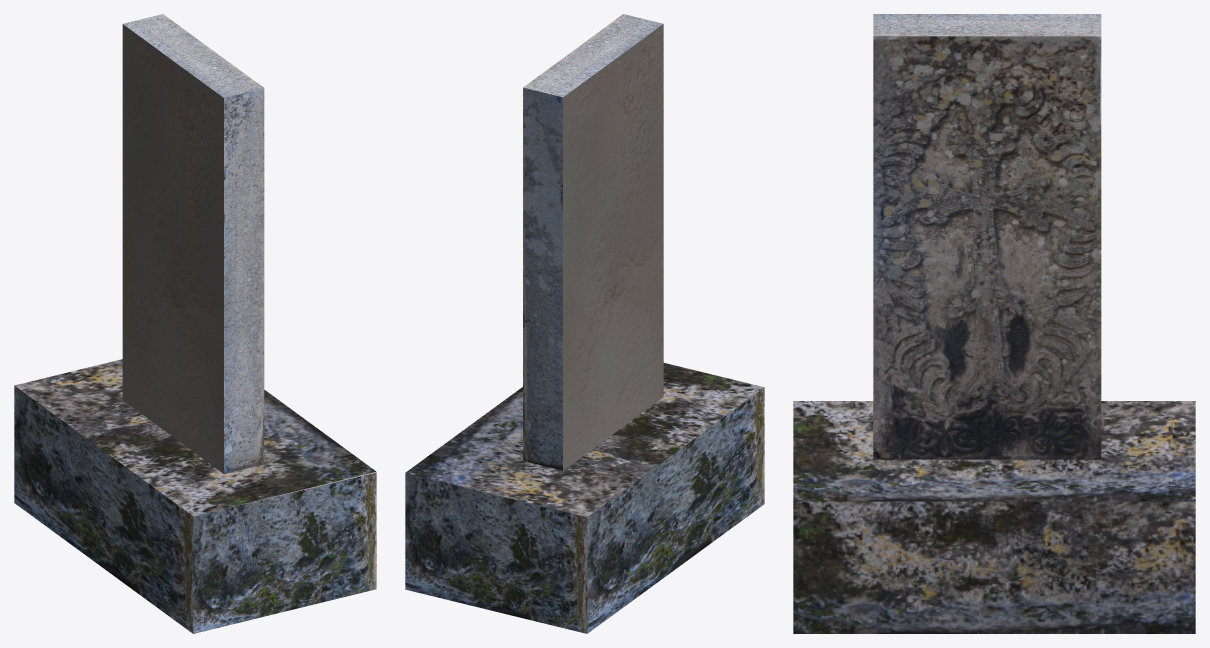
File: khachkar5maninfold.glb
3 renders of one model, left to right at view 1: azimuth 30°, elevation 25°; view 2: azimuth 150°, elevation 25°; view 3: azimuth 270°, elevation 25°, orthographic. The views are drawn at different scales.
Visible parts, largest first — view 1: ShapeIndexedFaceSet.001; view 2: ShapeIndexedFaceSet.001; view 3: ShapeIndexedFaceSet.001.
Boxes of the visible parts, left/top/right/bottom form: ShapeIndexedFaceSet.001: left=14, top=14, right=376, bottom=633; ShapeIndexedFaceSet.001: left=405, top=14, right=764, bottom=633; ShapeIndexedFaceSet.001: left=793, top=14, right=1195, bottom=633.
Bounding box in the file's own units: 0.7822 × 2.01 × 1.32.
1 material, 1 textured.
